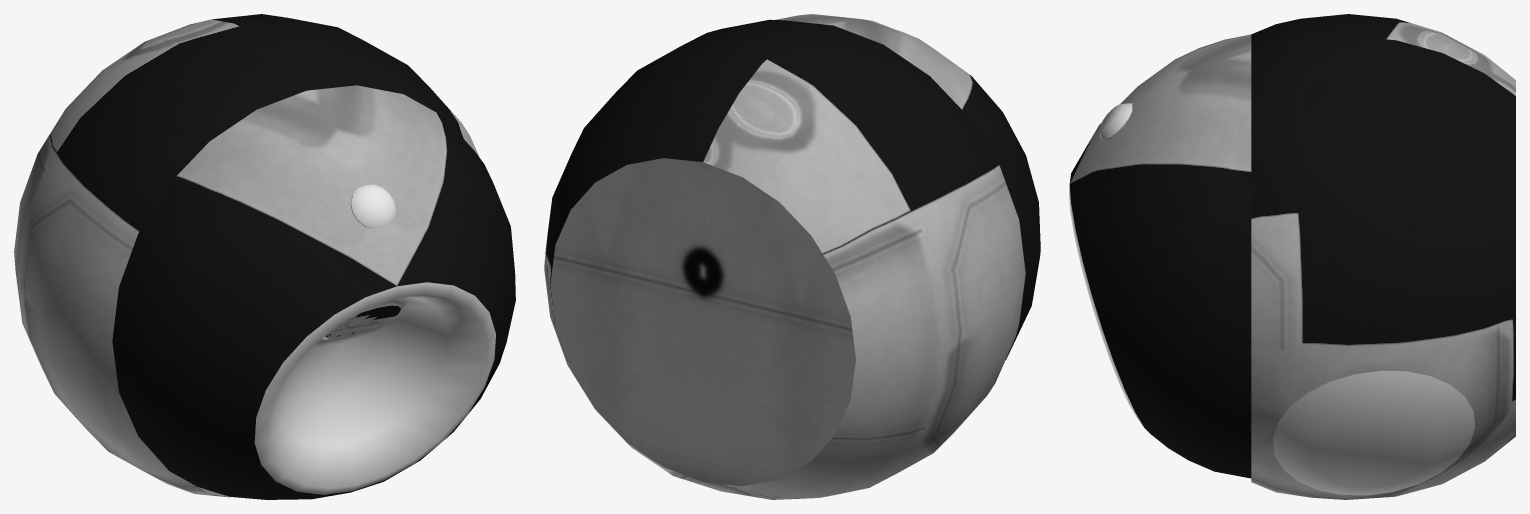
File: interior.fbx
3 renders of one model, left to right at view 1: azimuth 30°, elevation 25°; view 2: azimuth 150°, elevation 25°; view 3: azimuth 270°, elevation 25°, orthographic.
Parts seen in each view (by area): view 1: mesh, mask, glass; view 2: mesh; view 3: mesh, mask.
Boxes of the visible parts, x1,y1,x2,y2 form: mesh: (14,14,515,499); mask: (254,184,495,494); glass: (325,305,400,339); mesh: (544,14,1040,499); mesh: (1069,14,1515,499); mask: (1069,103,1475,495).
Bounding box in the file's own units: 1.2 × 1.1 × 1.09.
